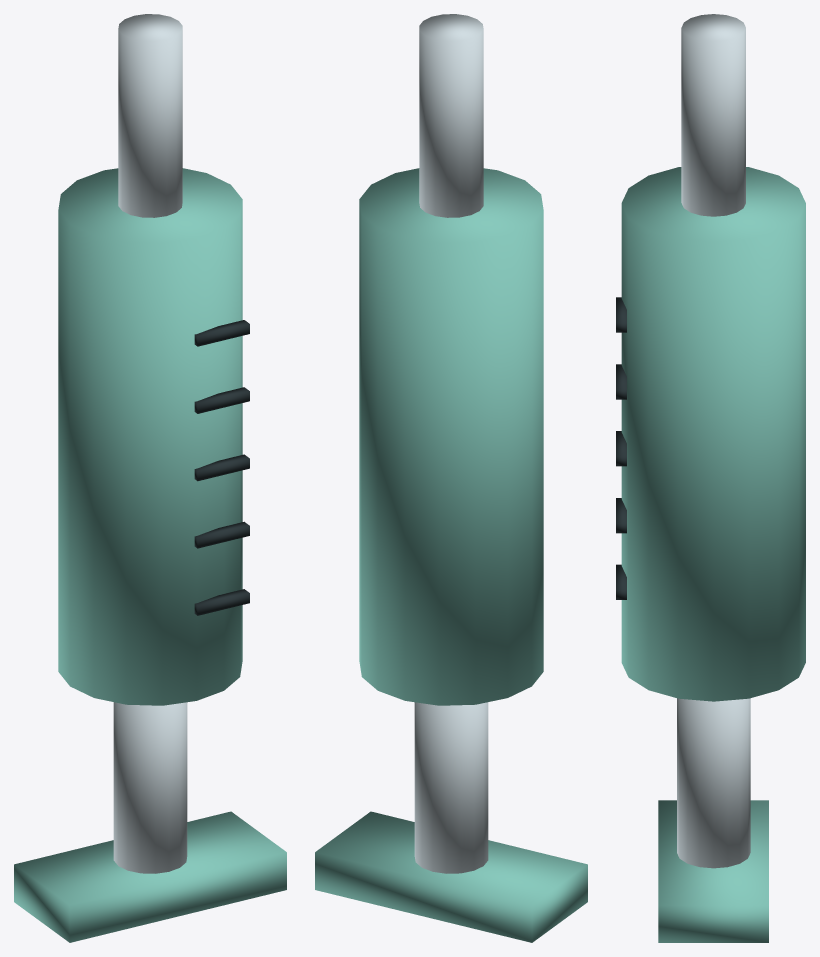
Rendered from tool-drops.glb.
The picture shows the model from 3 angles, left to right: view 1: azimuth 30°, elevation 25°; view 2: azimuth 150°, elevation 25°; view 3: azimuth 270°, elevation 25°; orthographic projection.
Parts seen in each view (by area): view 1: barrel, thumb pad.001, tip.001, plunger.001, measurement mark.006, measurement mark.007, measurement mark.008, measurement mark.005, measurement mark.009; view 2: barrel, thumb pad.001, tip.001, plunger.001; view 3: barrel, tip.001, plunger.001, thumb pad.001.
Part boxes in pixels (bbox=[...]): barrel: bbox=[58, 168, 242, 705]; thumb pad.001: bbox=[14, 811, 286, 942]; tip.001: bbox=[118, 14, 182, 217]; plunger.001: bbox=[113, 702, 187, 873]; measurement mark.006: bbox=[194, 521, 249, 548]; measurement mark.007: bbox=[194, 454, 249, 481]; measurement mark.008: bbox=[194, 387, 249, 413]; measurement mark.005: bbox=[194, 589, 249, 615]; measurement mark.009: bbox=[194, 320, 249, 346]; barrel: bbox=[359, 168, 543, 705]; thumb pad.001: bbox=[315, 811, 587, 942]; tip.001: bbox=[419, 14, 483, 217]; plunger.001: bbox=[414, 702, 488, 873]; barrel: bbox=[621, 167, 805, 701]; tip.001: bbox=[681, 14, 745, 216]; plunger.001: bbox=[677, 698, 750, 868]; thumb pad.001: bbox=[658, 800, 768, 942].
Bounding box in the file's own units: 0.27 × 1.03 × 0.206.
